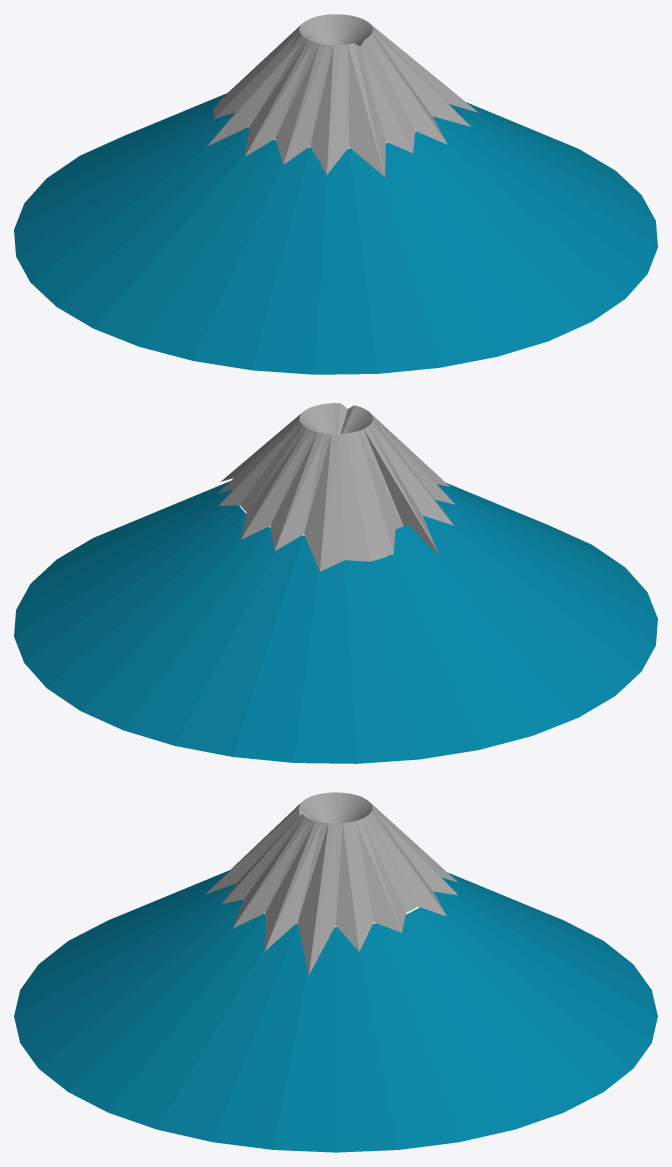
The model's file is fuji.obj.
3 views of the same model, one above another, from view 1: azimuth 30°, elevation 25°; view 2: azimuth 150°, elevation 25°; view 3: azimuth 270°, elevation 25° (orthographic).
Visible parts, largest first — view 1: Circle_Circle.003, Circle.001_Circle.002; view 2: Circle_Circle.003, Circle.001_Circle.002; view 3: Circle_Circle.003, Circle.001_Circle.002.
Boxes of the visible parts, x1=… form: Circle_Circle.003: x1=14, y1=93, x2=657, y2=374; Circle.001_Circle.002: x1=207, y1=14, x2=478, y2=176; Circle_Circle.003: x1=14, y1=481, x2=657, y2=763; Circle.001_Circle.002: x1=218, y1=403, x2=454, y2=571; Circle_Circle.003: x1=14, y1=870, x2=657, y2=1152; Circle.001_Circle.002: x1=205, y1=792, x2=458, y2=975.
Size of the model in its own units: 8.68 by 3.1 by 8.68.
